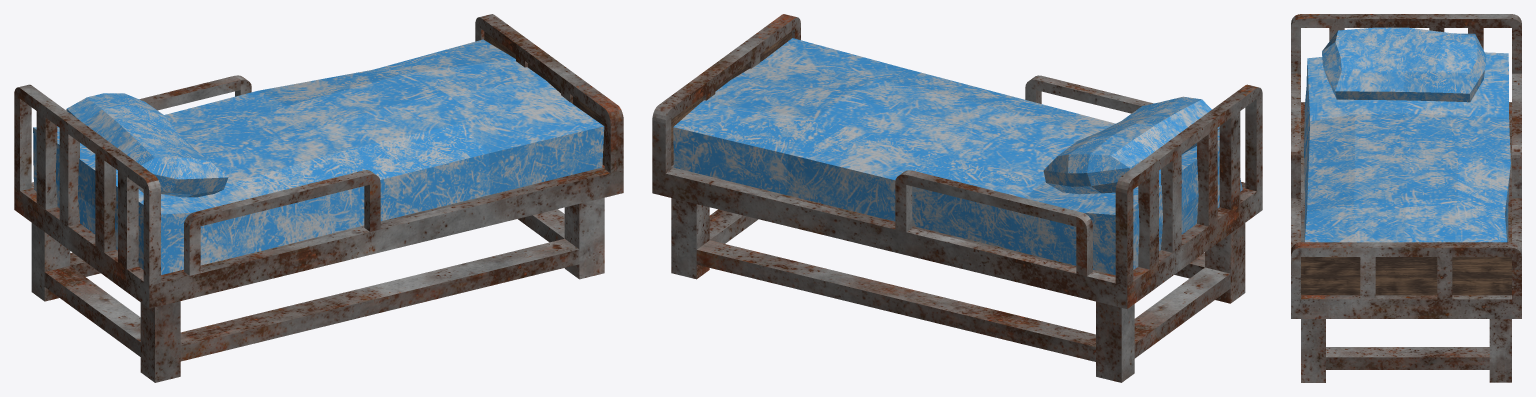
Rendered from hospital_bed_test1.fbx.
3 views of the same model, side by side, from view 1: azimuth 30°, elevation 25°; view 2: azimuth 150°, elevation 25°; view 3: azimuth 270°, elevation 25° (orthographic). The views are drawn at different scales.
Visible parts, largest first — view 1: Bed, Mattress, Pillow, Support; view 2: Bed, Mattress, Pillow, Support; view 3: Mattress, Bed, Pillow, Support.
Part boxes in pixels (x1,y1,x2,y2): Bed: (14, 14, 623, 382); Mattress: (33, 39, 604, 274); Pillow: (66, 93, 228, 197); Support: (484, 31, 604, 165); Bed: (652, 14, 1262, 382); Mattress: (673, 38, 1242, 275); Pillow: (1043, 96, 1219, 194); Support: (671, 31, 791, 165); Mattress: (1304, 52, 1510, 242); Bed: (1291, 14, 1521, 382); Pillow: (1322, 27, 1486, 102); Support: (1301, 257, 1511, 295).
Size of the model in its own units: 608 by 256 by 300.
4 materials, 4 textured.
